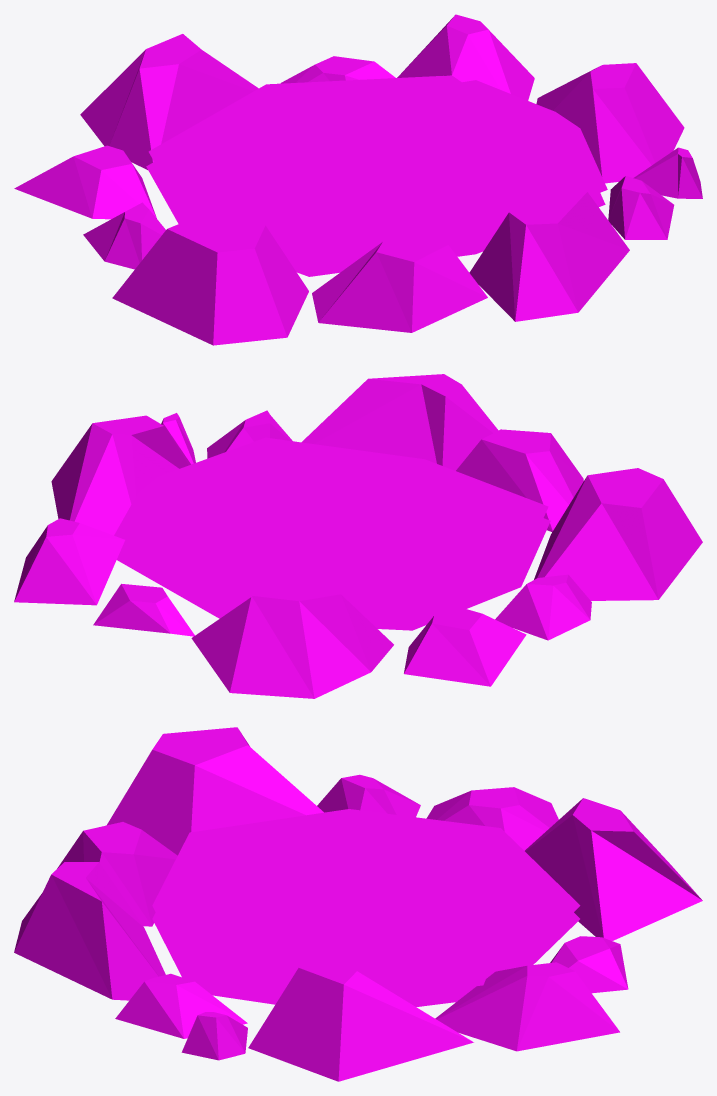
The model's file is rockpool.obj.
3 views of the same model, one above another, from view 1: azimuth 30°, elevation 25°; view 2: azimuth 150°, elevation 25°; view 3: azimuth 270°, elevation 25° (orthographic). The views are drawn at different scales.
Visible parts, largest first — view 1: rockpool_back; view 2: rockpool_back; view 3: rockpool_back.
Part boxes in pixels (<box>): rockpool_back: <box>14,14,702,345</box>; rockpool_back: <box>14,374,702,698</box>; rockpool_back: <box>14,727,702,1081</box>.
Size of the model in its own units: 2.65 by 0.35 by 2.59.
